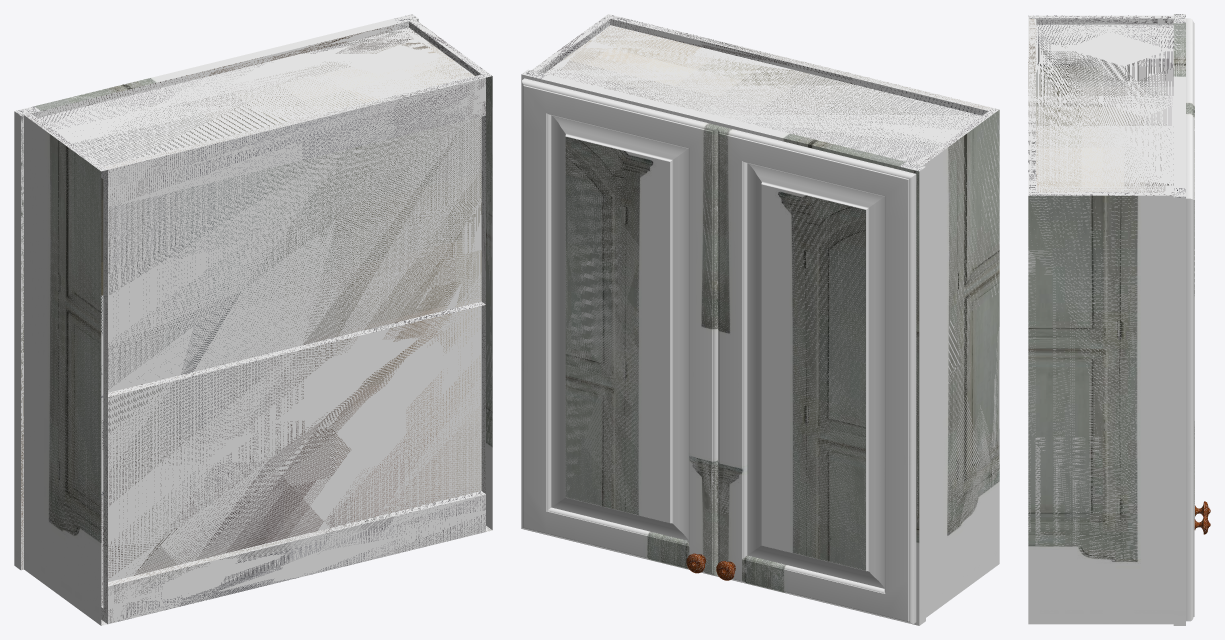
3 renders of one model, left to right at view 1: azimuth 30°, elevation 25°; view 2: azimuth 150°, elevation 25°; view 3: azimuth 270°, elevation 25°, orthographic. The views are drawn at different scales.
Visible parts, largest first — view 1: mesh3_mesh3-geometry; view 2: mesh4_mesh4-geometry, mesh2_mesh2-geometry, mesh3_mesh3-geometry, mesh1_mesh1-geometry; view 3: mesh3_mesh3-geometry, mesh2_mesh2-geometry, mesh4_mesh4-geometry, mesh1_mesh1-geometry.
Boxes of the visible parts, left/top/right/bottom form: mesh3_mesh3-geometry: left=14, top=14, right=492, bottom=625; mesh4_mesh4-geometry: left=718, top=126, right=916, bottom=623; mesh2_mesh2-geometry: left=522, top=78, right=720, bottom=575; mesh3_mesh3-geometry: left=521, top=14, right=999, bottom=625; mesh1_mesh1-geometry: left=686, top=553, right=735, bottom=580; mesh3_mesh3-geometry: left=1028, top=14, right=1185, bottom=625; mesh2_mesh2-geometry: left=1186, top=108, right=1194, bottom=621; mesh4_mesh4-geometry: left=1186, top=18, right=1194, bottom=518; mesh1_mesh1-geometry: left=1194, top=501, right=1210, bottom=534.
Size of the model in its own units: 0.6499 by 0.709 by 0.2737.
